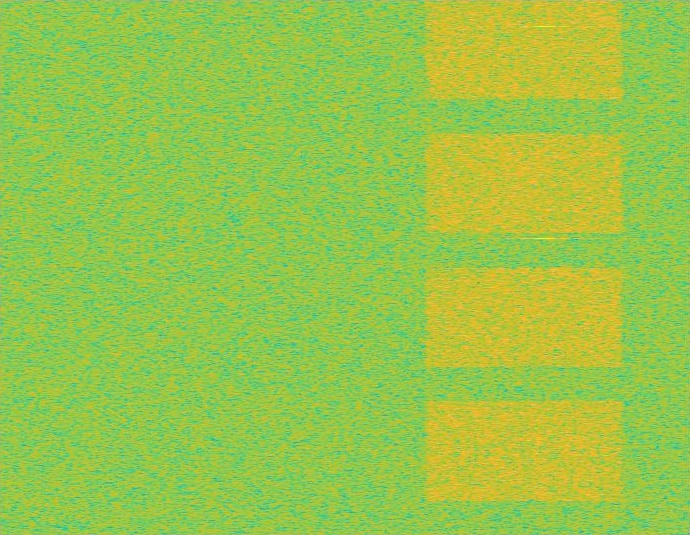5G: (421, 0, 628, 534)
Radar: (538, 0, 551, 534)
